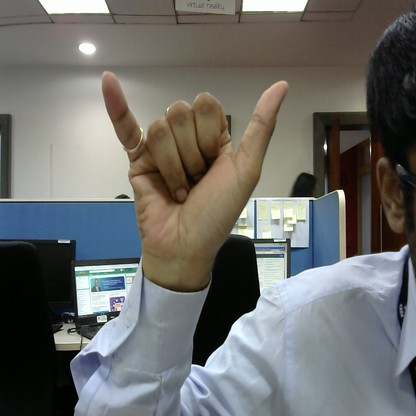y: (89, 65, 294, 261)
